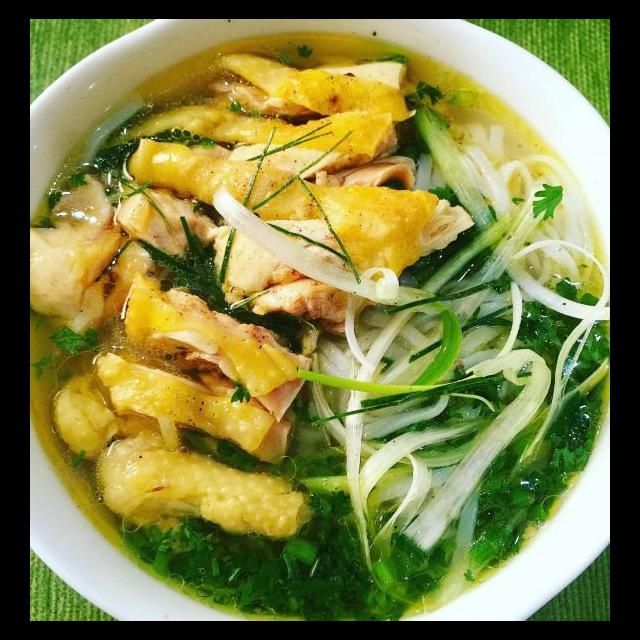banh pho: (408, 116, 599, 306), (302, 290, 519, 449)
pho ga: (36, 54, 608, 621)
thit ga: (122, 136, 479, 304), (97, 97, 419, 205), (116, 270, 316, 426), (87, 427, 318, 546), (88, 345, 300, 467), (31, 169, 163, 350), (200, 212, 377, 340), (200, 43, 422, 135), (50, 370, 227, 470), (100, 176, 227, 265)
